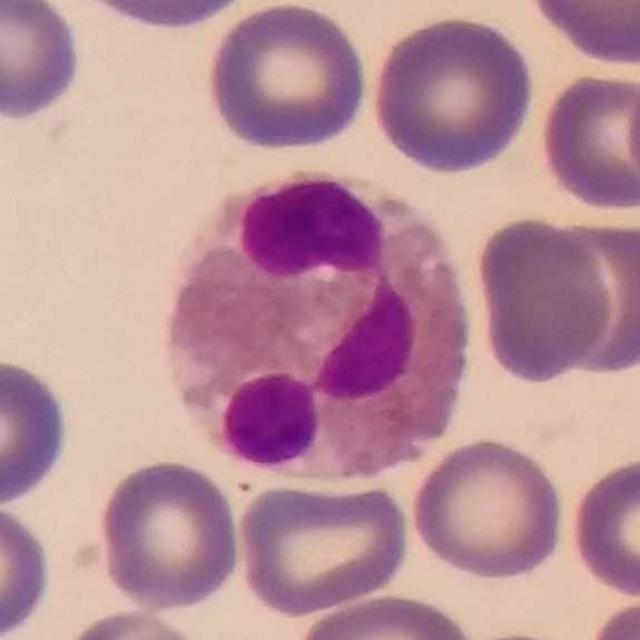eosino: (170, 172, 472, 487)
